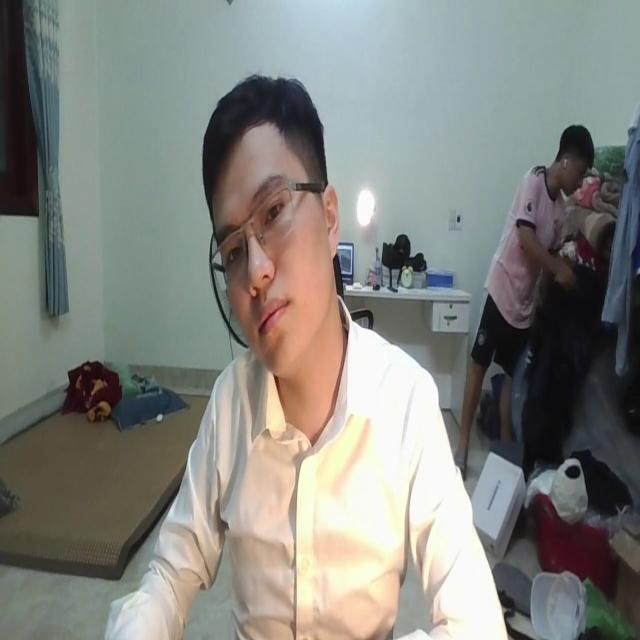extra_person: (466, 114, 592, 454)
student: (96, 80, 506, 640)
